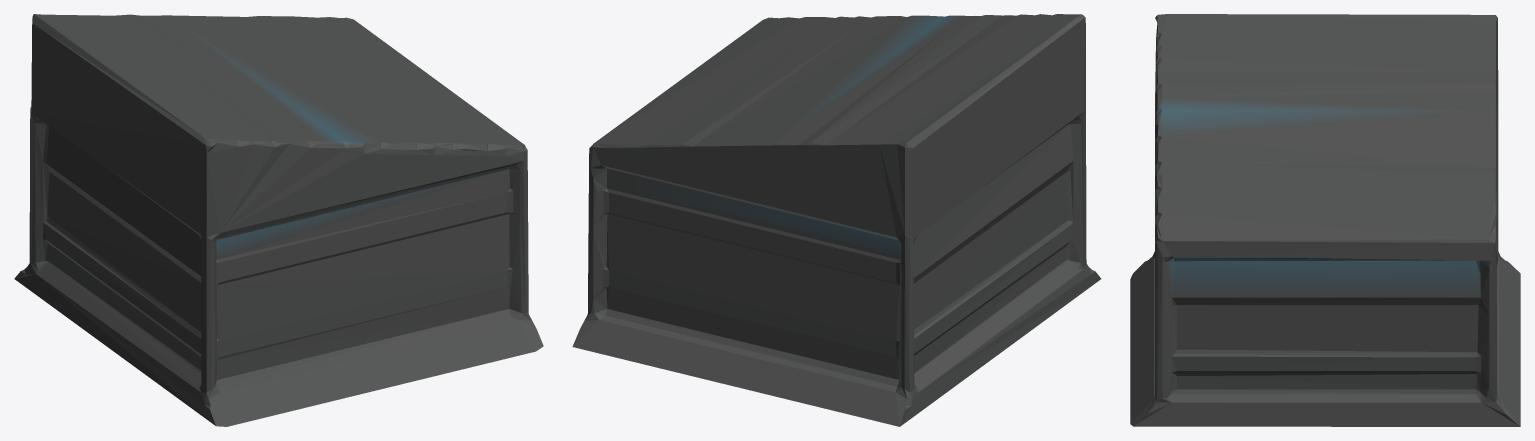
The model's file is Skyscrapers(3).glb.
3 renders of one model, left to right at view 1: azimuth 30°, elevation 25°; view 2: azimuth 150°, elevation 25°; view 3: azimuth 270°, elevation 25°, orthographic. The views are drawn at different scales.
Visible parts, largest first — view 1: Root; view 2: Root; view 3: Root.
Boxes of the visible parts, bbox=[...] form: Root: bbox=[14, 14, 543, 426]; Root: bbox=[572, 14, 1101, 426]; Root: bbox=[1130, 14, 1520, 426].
Bounding box in the file's own units: 4.61 × 3.7 × 4.96.
